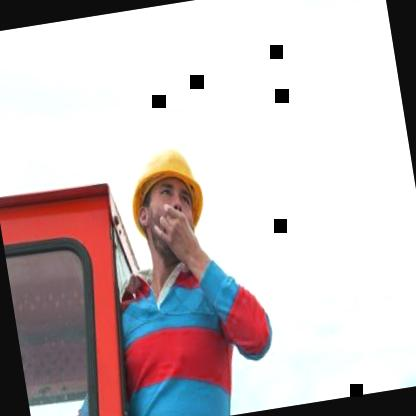helmet: (120, 136, 212, 268)
